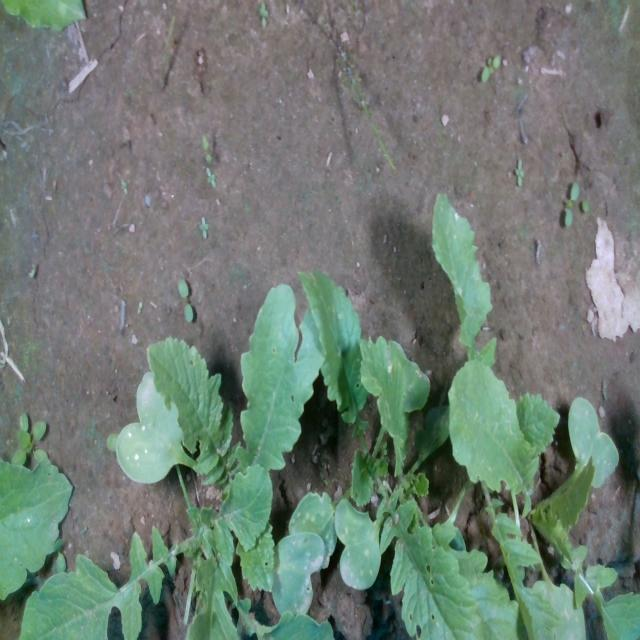weed: (176, 278, 194, 324), (563, 178, 579, 228), (480, 52, 500, 82), (204, 166, 217, 190), (514, 156, 524, 186), (197, 215, 209, 239), (258, 1, 269, 27)
